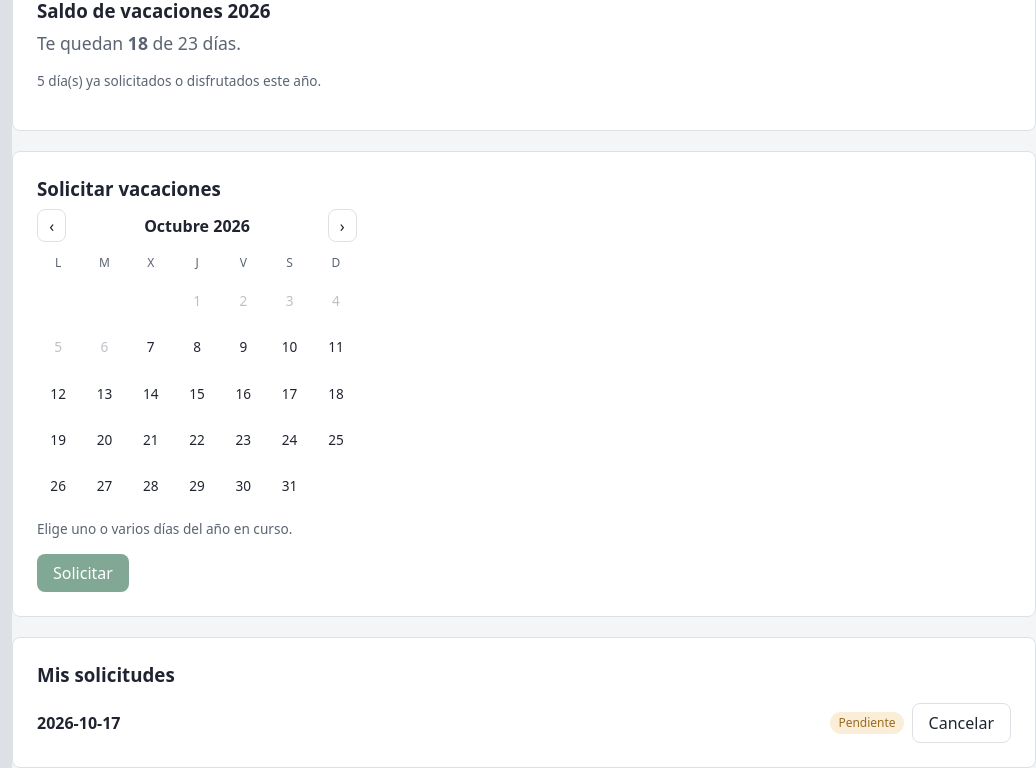
Test: WorkerVacations › muestra el mensaje de un ApiError si falla cancelar una solicitud
The width and height of the screenshot is (1036, 768).
(page scrolled)
Click the button "Cancelar" at (961, 723), box x1=912 y1=703 x2=1011 y2=743
(page scrolled)
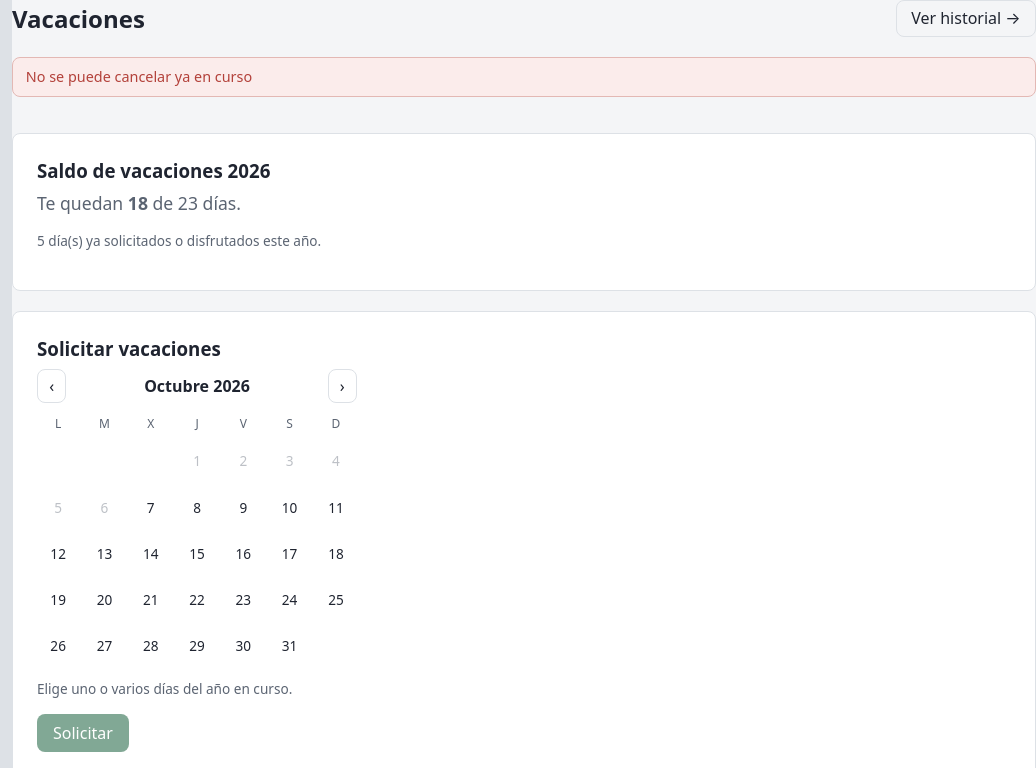
Check: the text "No se puede cancelar ya en curso" is shown, box x1=12 y1=57 x2=1035 y2=97
